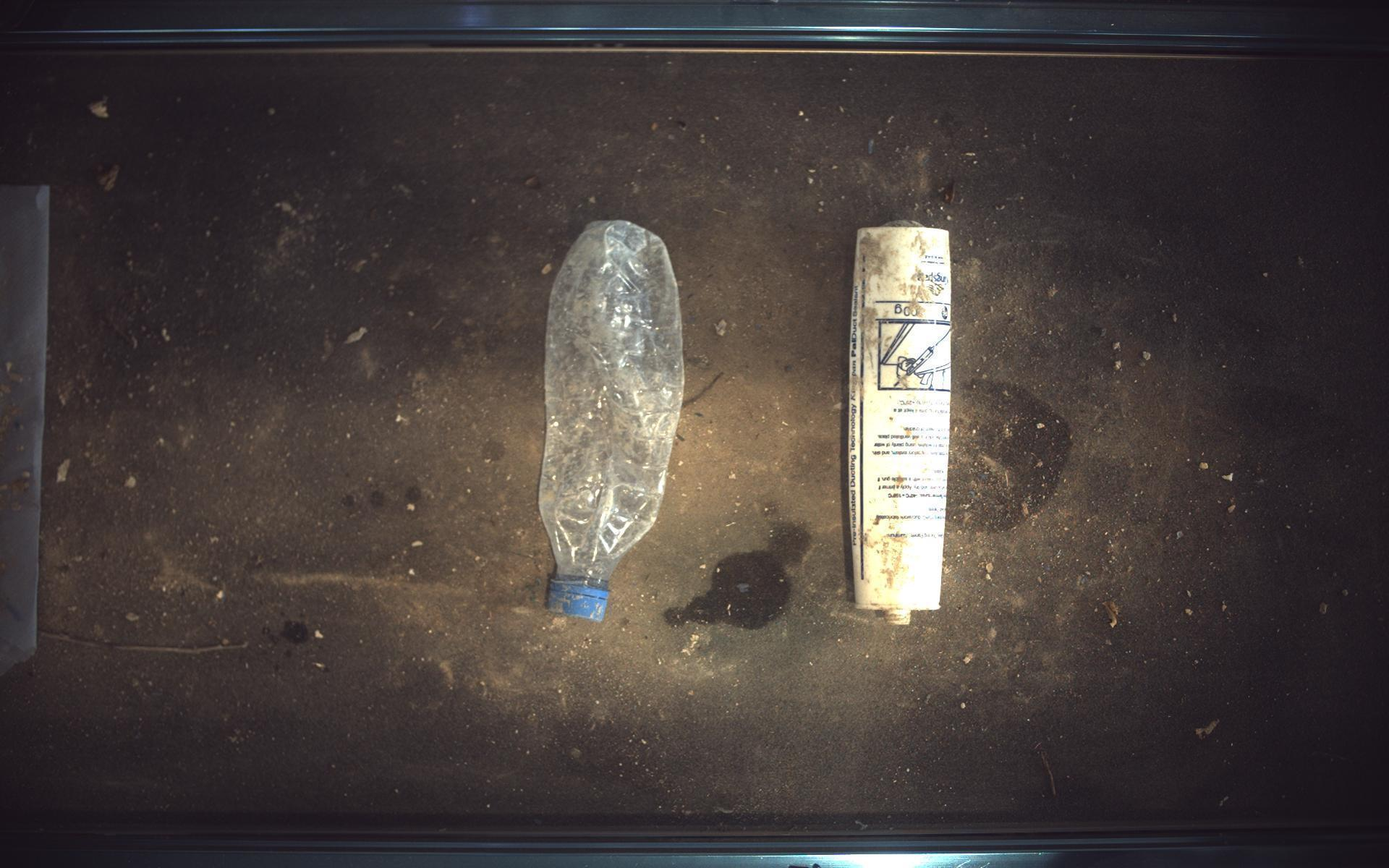general_w: (539, 220, 685, 623)
plastic: (850, 225, 954, 625)
